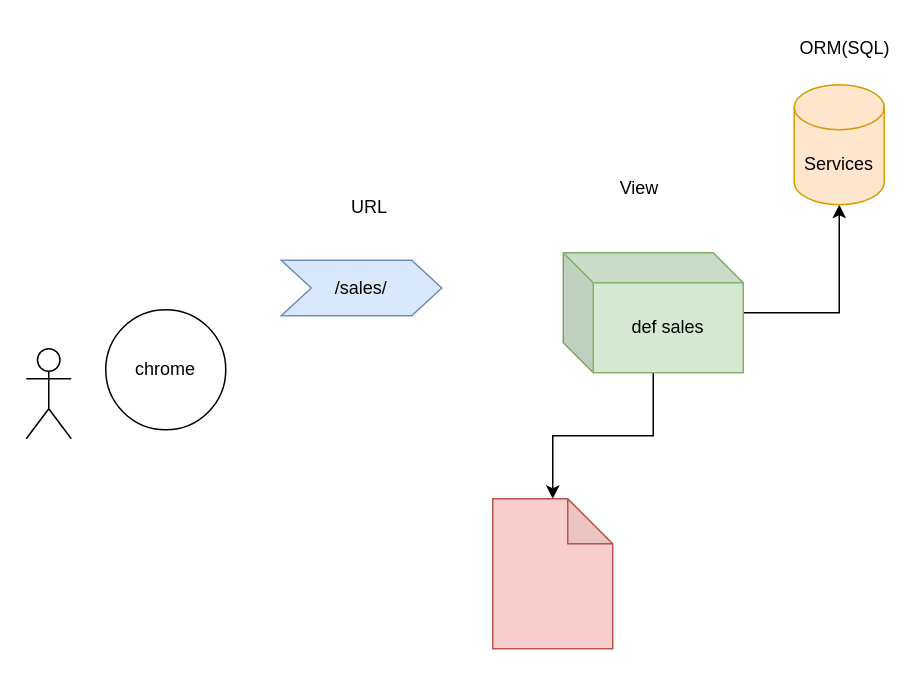
The diagram is 917 pixels wide and 675 high, and some of its shapes have lost their labels. The shapes that lost their labels are listed below. From the top down, each one's centre as x and y in pixels, then its label:
At pixel 48 393: "Actor".
At pixel 552 573: "sales.html".
